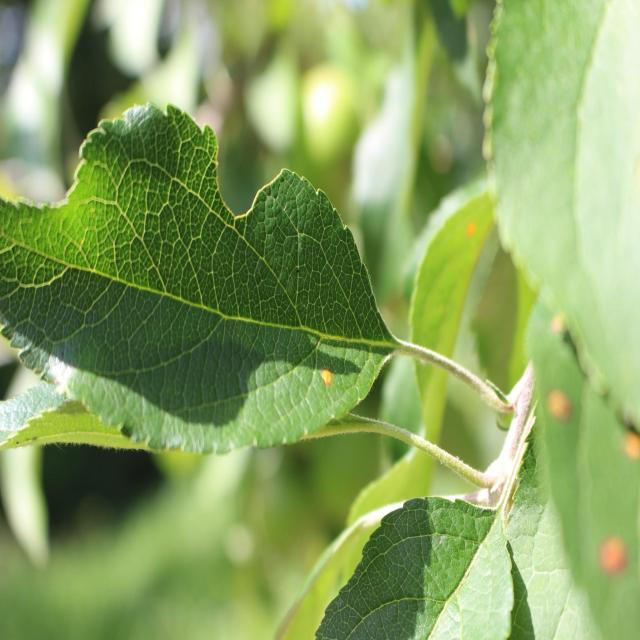Rust: (306, 356, 340, 408)
